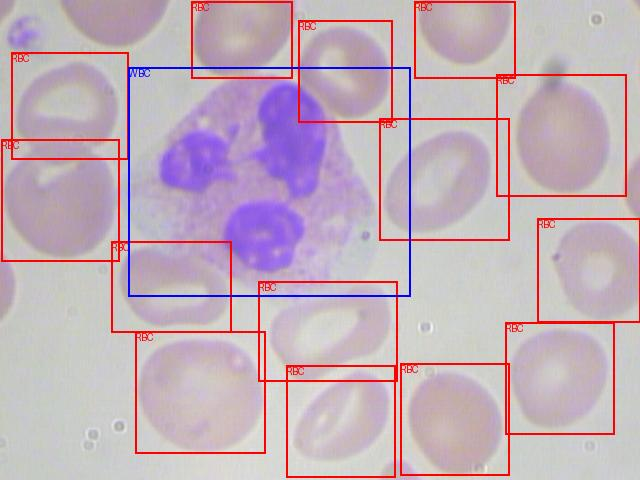RBC: (135, 331, 265, 453), (379, 118, 509, 240), (496, 74, 626, 196), (1, 139, 119, 261), (258, 281, 397, 381), (11, 52, 128, 159), (505, 322, 614, 434), (400, 363, 509, 475), (286, 365, 395, 477), (111, 241, 231, 332), (537, 218, 640, 322), (298, 20, 392, 122), (191, 1, 292, 78), (414, 1, 515, 78)
WBC: (128, 67, 410, 296)
